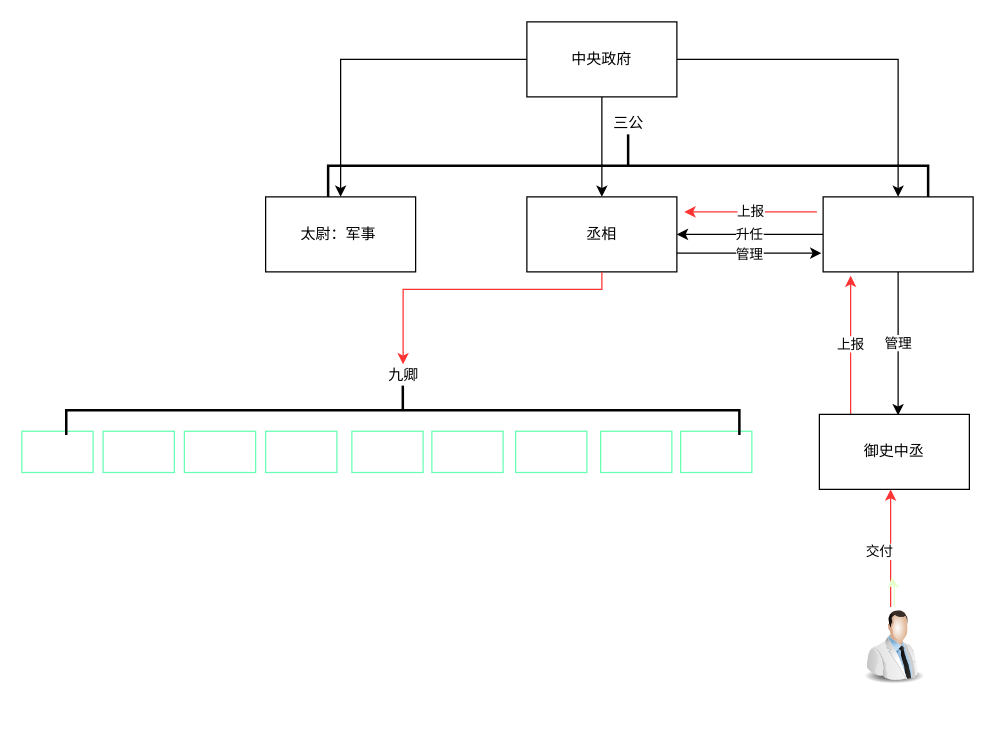
Some shapes in this 995 by 735 pixel diagram are drawn without their labels. The centre of each missing label's shape, as x and y in pixels:
"御史大夫：监察" goes at point 897,234.
"皇帝" goes at point 894,646.
